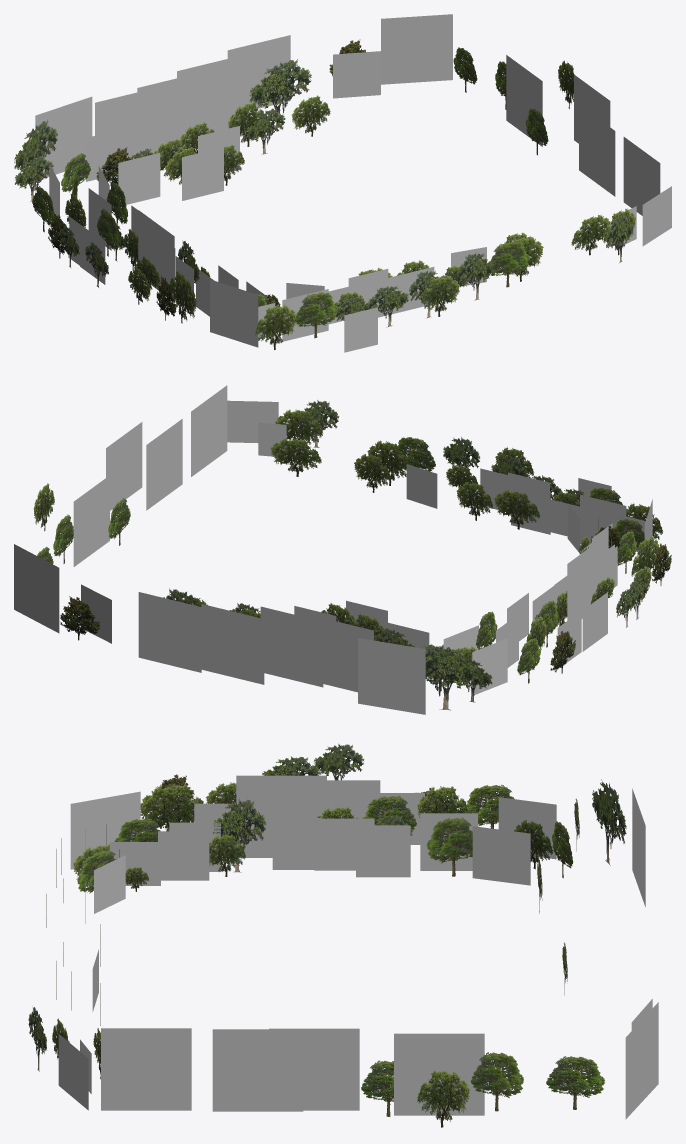
The model's file is terrain_trees.obj.
The picture shows the model from 3 angles, top to bottom: view 1: azimuth 30°, elevation 25°; view 2: azimuth 150°, elevation 25°; view 3: azimuth 270°, elevation 25°; orthographic projection. The views are drawn at different scales.
Visible parts, largest first — view 1: Plane.071, Plane.014, Plane.054, Plane.101, Plane.015, Plane.017, Plane.083, Plane.081, Plane.096, Plane.102, Plane.018, Plane.028 (+45 smaller); view 2: Plane.014, Plane.083, Plane.019, Plane.017, Plane.071, Plane.015, Plane.096, Plane.101, Plane.102, Plane.103, Plane.039, Plane.016 (+37 smaller); view 3: Plane.096, Plane.103, Plane.102, Plane.101, Plane.039, Plane.054, Plane.035, Plane.008, Plane.071, Plane.047, Plane.042, Plane.002 (+29 smaller).
Part boxes in pixels (x1=…): Plane.071: x1=381, y1=14, x2=452, y2=84; Plane.014: x1=35, y1=96, x2=92, y2=179; Plane.054: x1=210, y1=279, x2=258, y2=347; Plane.101: x1=579, y1=104, x2=615, y2=196; Plane.015: x1=95, y1=87, x2=157, y2=158; Plane.017: x1=137, y1=73, x2=200, y2=140; Plane.083: x1=227, y1=35, x2=290, y2=110; Plane.081: x1=333, y1=51, x2=380, y2=98; Plane.096: x1=623, y1=137, x2=660, y2=215; Plane.102: x1=506, y1=55, x2=542, y2=146; Plane.018: x1=249, y1=59, x2=311, y2=127; Plane.028: x1=182, y1=147, x2=223, y2=200; Plane.014: x1=358, y1=638, x2=425, y2=714; Plane.083: x1=138, y1=592, x2=201, y2=672; Plane.019: x1=201, y1=604, x2=264, y2=684; Plane.017: x1=260, y1=606, x2=323, y2=687; Plane.071: x1=14, y1=544, x2=59, y2=633; Plane.015: x1=311, y1=615, x2=373, y2=692; Plane.096: x1=191, y1=385, x2=227, y2=476; Plane.101: x1=146, y1=419, x2=182, y2=510; Plane.102: x1=73, y1=475, x2=109, y2=566; Plane.103: x1=106, y1=422, x2=142, y2=510; Plane.039: x1=567, y1=537, x2=603, y2=620; Plane.016: x1=423, y1=644, x2=478, y2=710; Plane.096: x1=101, y1=1028, x2=191, y2=1110; Plane.103: x1=269, y1=1028, x2=359, y2=1110; Plane.102: x1=394, y1=1033, x2=484, y2=1115; Plane.101: x1=212, y1=1029, x2=303, y2=1111; Plane.039: x1=236, y1=775, x2=326, y2=857; Plane.054: x1=70, y1=791, x2=140, y2=869; Plane.035: x1=472, y1=826, x2=530, y2=885; Plane.008: x1=356, y1=825, x2=410, y2=877; Plane.071: x1=625, y1=1002, x2=658, y2=1119; Plane.047: x1=158, y1=831, x2=209, y2=880; Plane.042: x1=272, y1=818, x2=321, y2=869; Plane.002: x1=314, y1=818, x2=374, y2=870.
Bounding box in the file's own units: 515 × 82.63 × 435.
